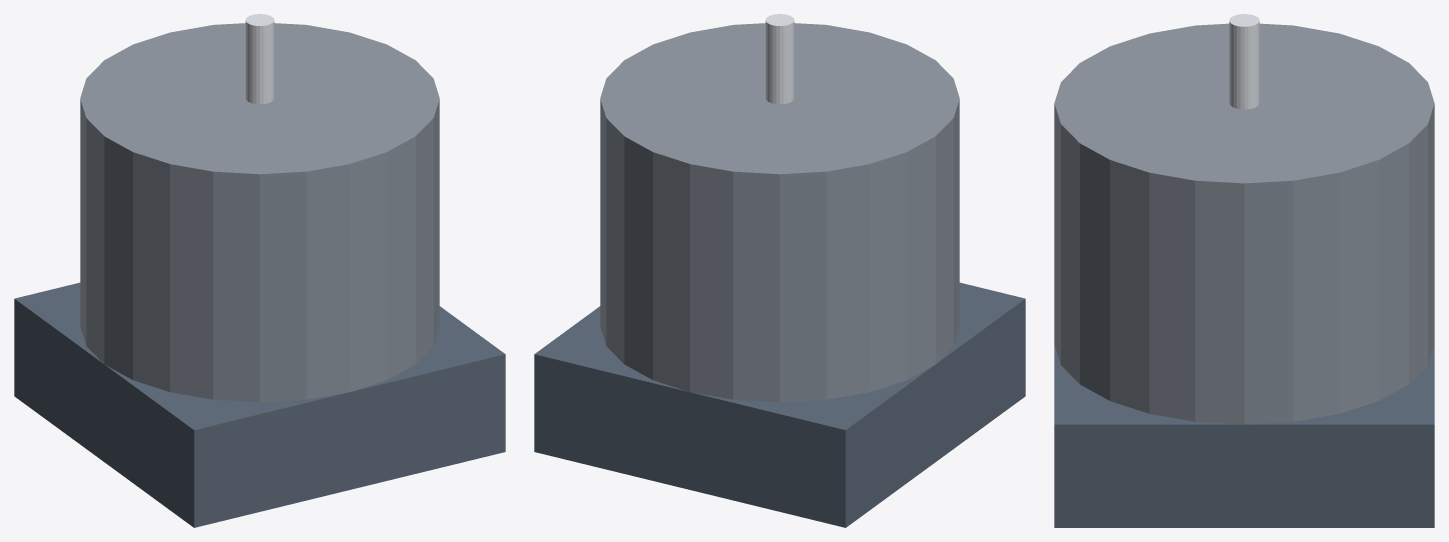
The model's file is blower-fan-5v-radial.glb.
3 renders of one model, left to right at view 1: azimuth 30°, elevation 25°; view 2: azimuth 150°, elevation 25°; view 3: azimuth 270°, elevation 25°, orthographic. The views are drawn at different scales.
Parts seen in each view (by area): view 1: blower-fan-5v-radial_mesh; view 2: blower-fan-5v-radial_mesh; view 3: blower-fan-5v-radial_mesh.
Part boxes in pixels (x1,y1,x2,y2): blower-fan-5v-radial_mesh: (14,14,505,527); blower-fan-5v-radial_mesh: (534,14,1025,527); blower-fan-5v-radial_mesh: (1054,14,1434,527).
Bounding box in the file's own units: 50 × 62 × 50.
